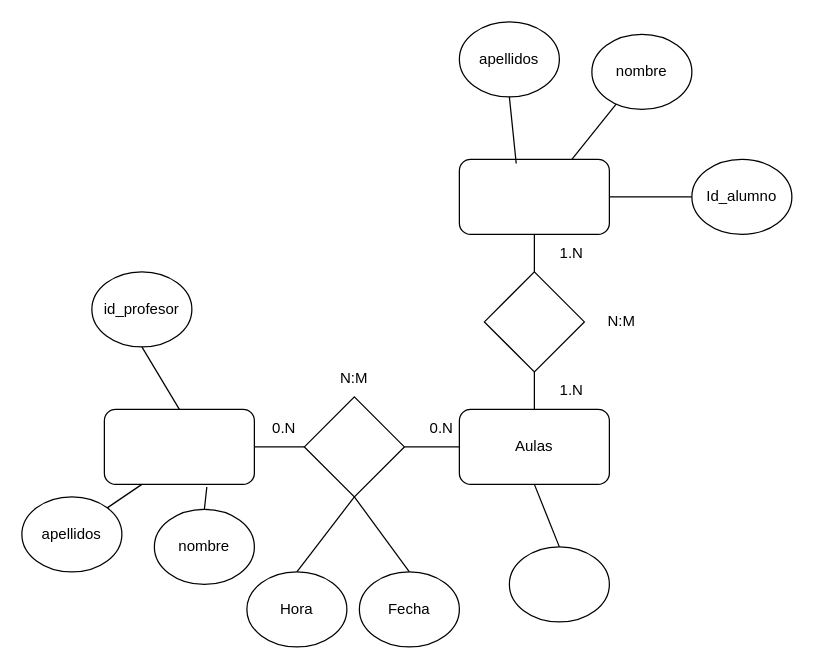
The diagram is 814 pixels wide and 669 high, and some of its shapes have lost their labels. Each missing label, with the box of its shape:
Alumnos: (458, 158, 609, 234)
id_aula: (508, 546, 609, 622)
Incidencias: (483, 271, 584, 372)
Profesores: (103, 408, 254, 484)
Reservan: (303, 396, 404, 497)
